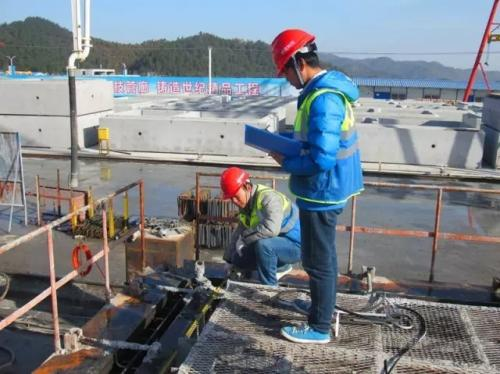boots: (276, 298, 337, 323), (279, 322, 331, 343)
gloves: (235, 229, 259, 258)
hard-hat: (270, 28, 316, 77), (219, 167, 250, 201)
person: (268, 27, 365, 343), (219, 165, 302, 286)
vest: (235, 180, 297, 242)
